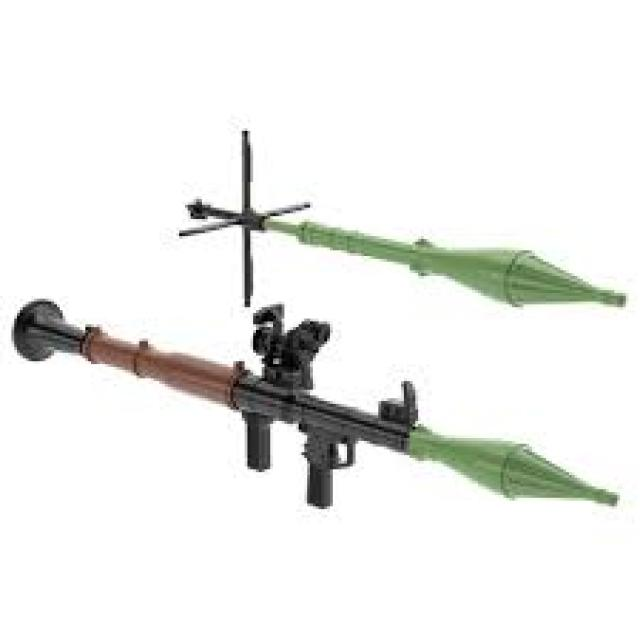bazooka: (1, 281, 624, 547)
